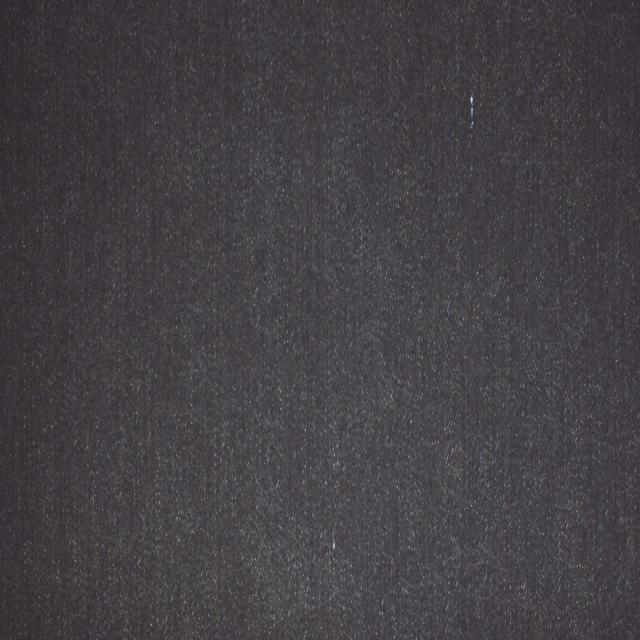Knot: (469, 94, 477, 128)
